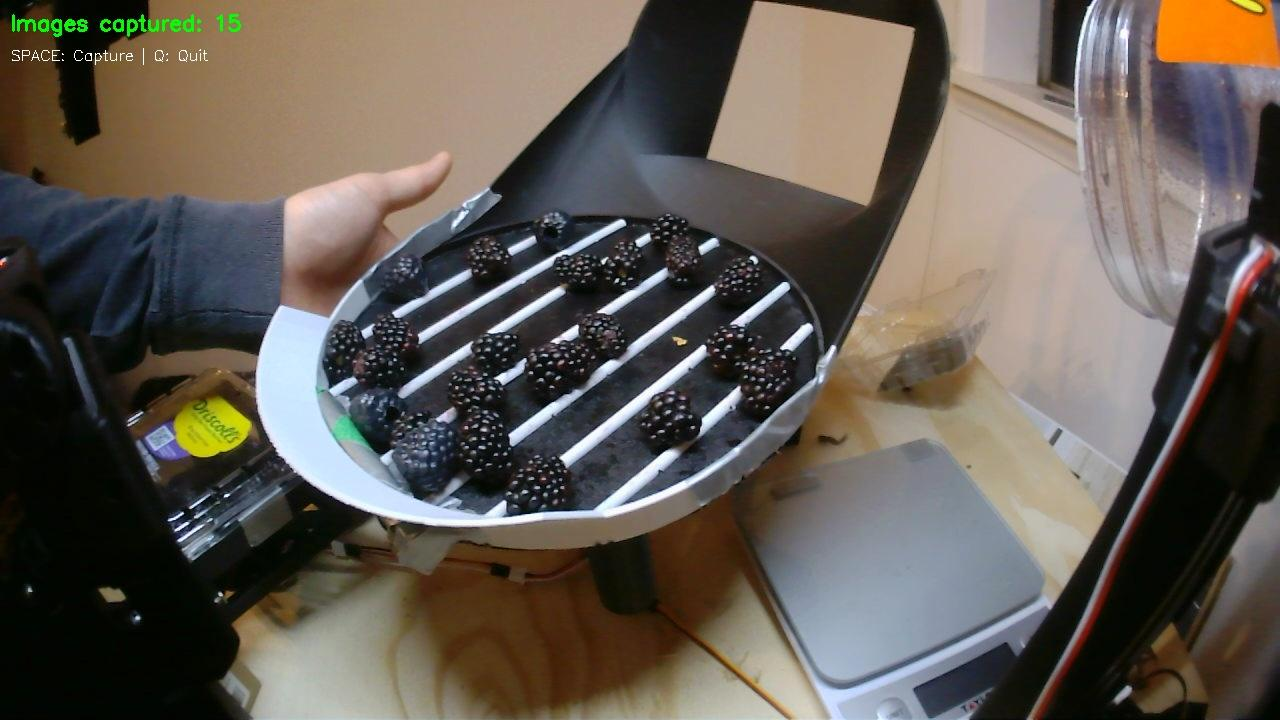berry: (393, 420, 459, 496), (460, 406, 513, 490), (524, 340, 594, 400), (739, 348, 797, 419), (504, 455, 573, 514), (639, 389, 700, 449), (350, 388, 407, 452), (704, 324, 757, 378), (448, 368, 506, 417), (323, 320, 365, 381), (372, 314, 420, 364), (353, 345, 407, 388), (579, 313, 628, 358), (715, 257, 761, 304), (381, 255, 428, 301), (465, 236, 510, 284), (601, 240, 644, 290), (471, 332, 520, 375), (665, 236, 701, 287), (553, 253, 601, 291), (532, 210, 574, 252), (390, 412, 436, 447), (651, 213, 688, 249)
